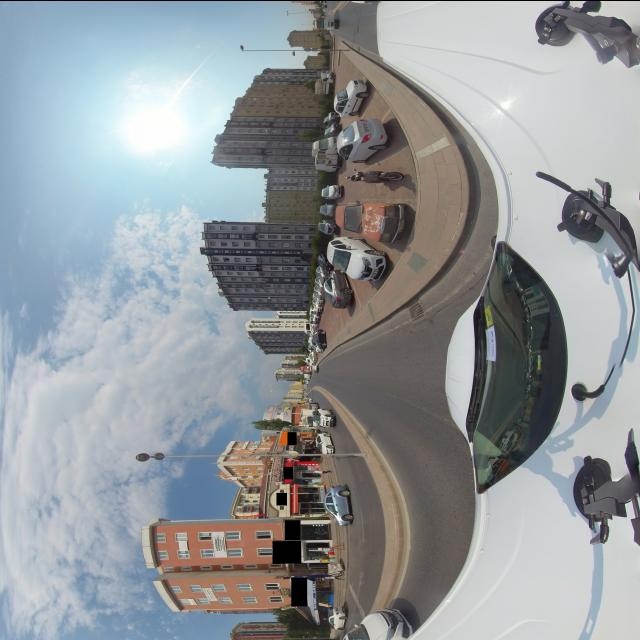SignStore: (291, 576, 307, 606), (286, 540, 301, 562), (273, 540, 287, 563), (285, 519, 300, 539), (276, 492, 287, 504), (288, 431, 297, 444), (284, 466, 293, 478)
